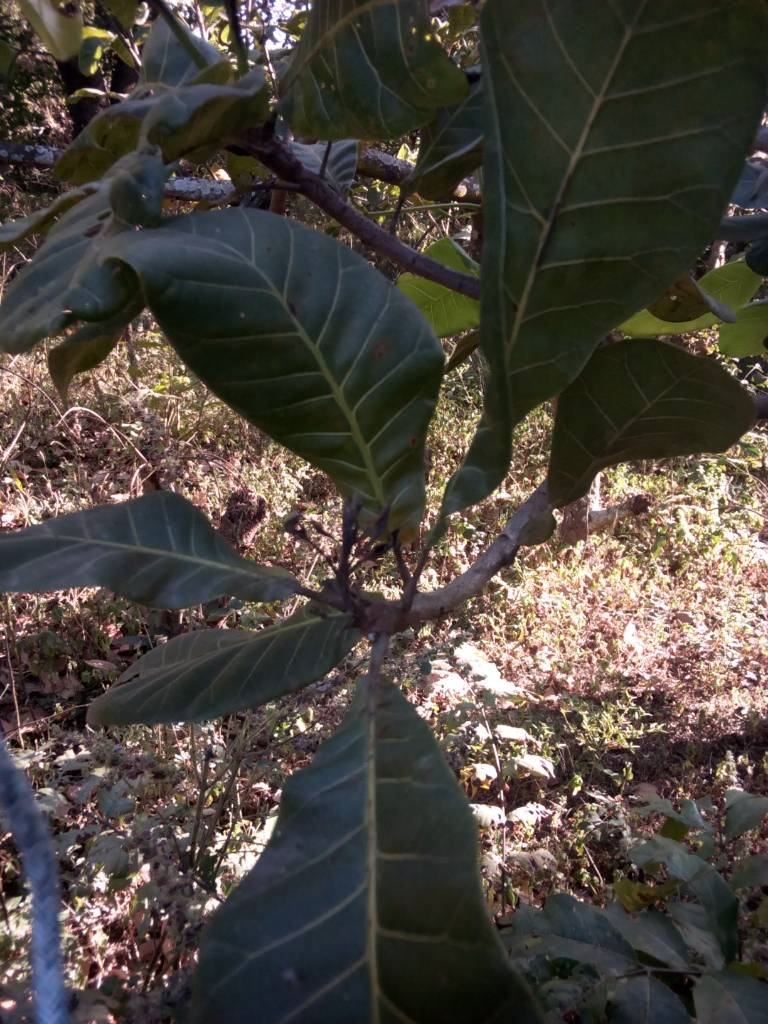Dessèchement des bourgeons: (294, 497, 432, 617)
